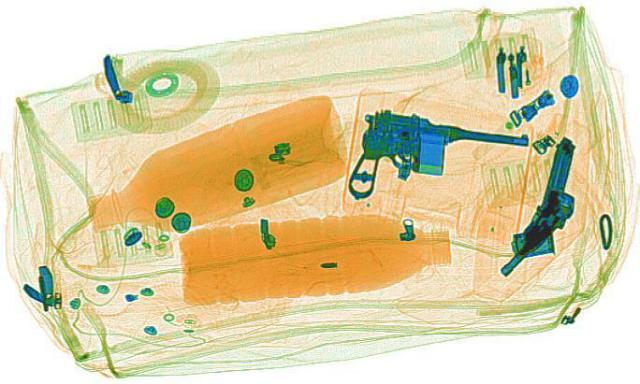Gun: (340, 103, 534, 205), (492, 134, 604, 282)
